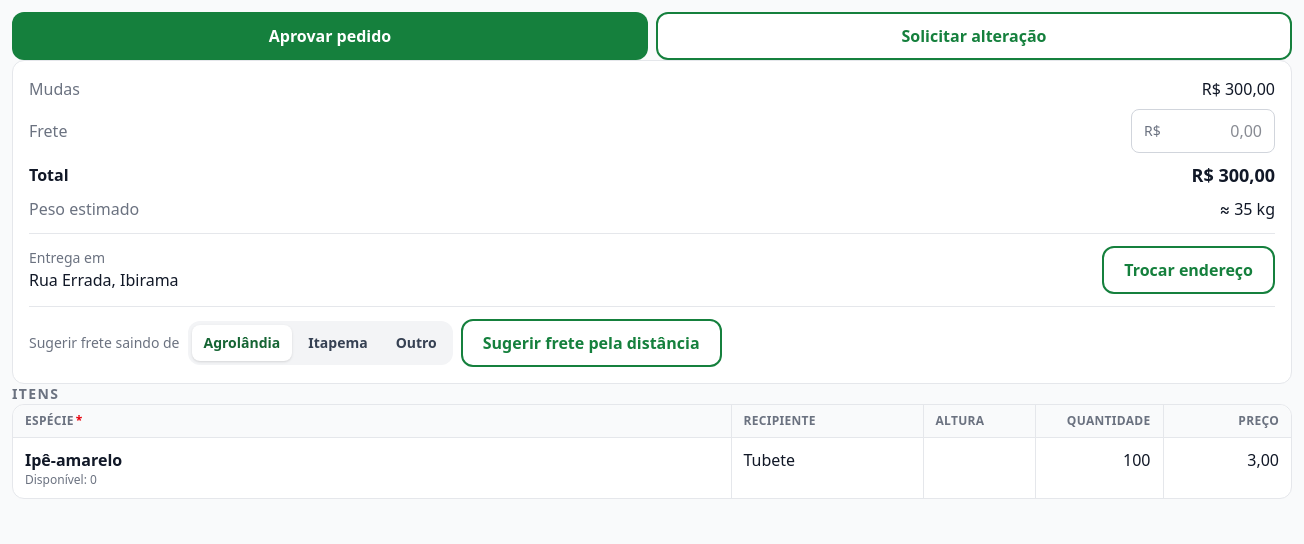
Test: ItensDaFicha: o fechamento do pedido (RF-66) › endereço não achado no mapa: o aviso aparece, e o botão de trocar continua ali
This screenshot has width=1304, height=544.
Click the button "Sugerir frete pela distância".
click(591, 343)  # box x1=461 y1=319 x2=722 y2=367
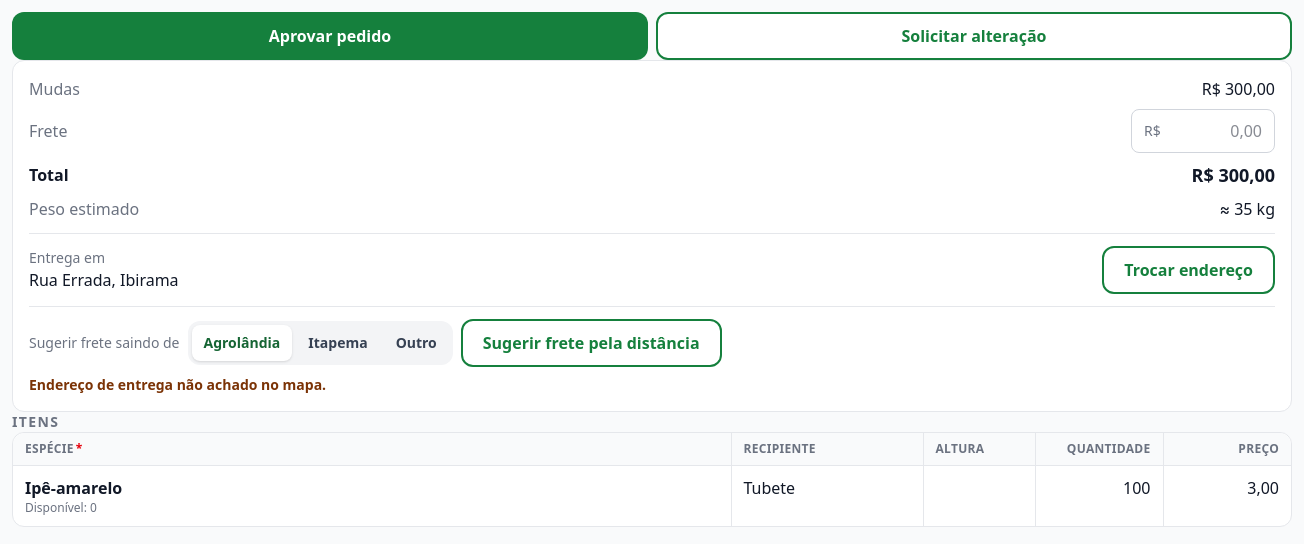
Check: the button "Trocar endereço" is shown, box x1=1102 y1=246 x2=1275 y2=294
Check: the text "Endereço de entrega não achado no mapa." is shown, box x1=29 y1=375 x2=326 y2=394
